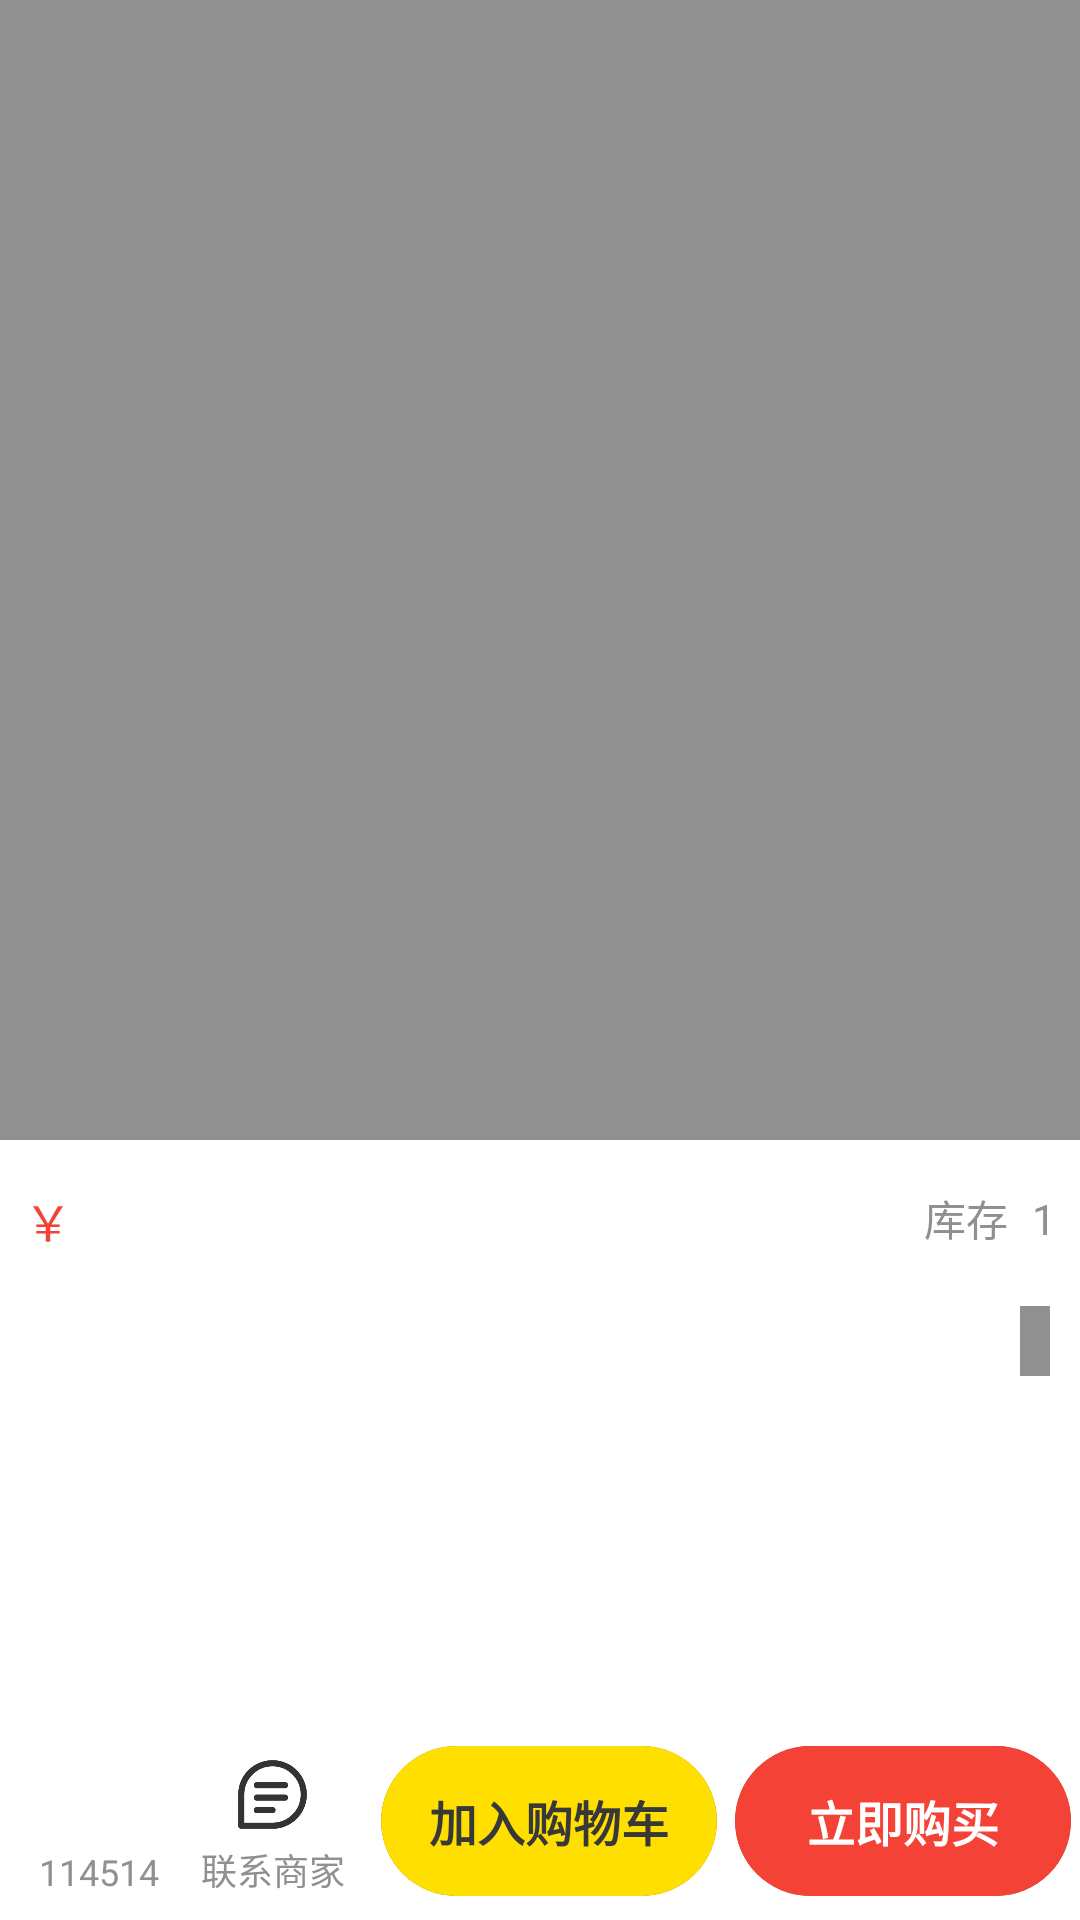

Point at icon controls on the screen. Image size 1080px×1920px, points as (x=x, y=y).
chat message: (x=272, y=1794)
